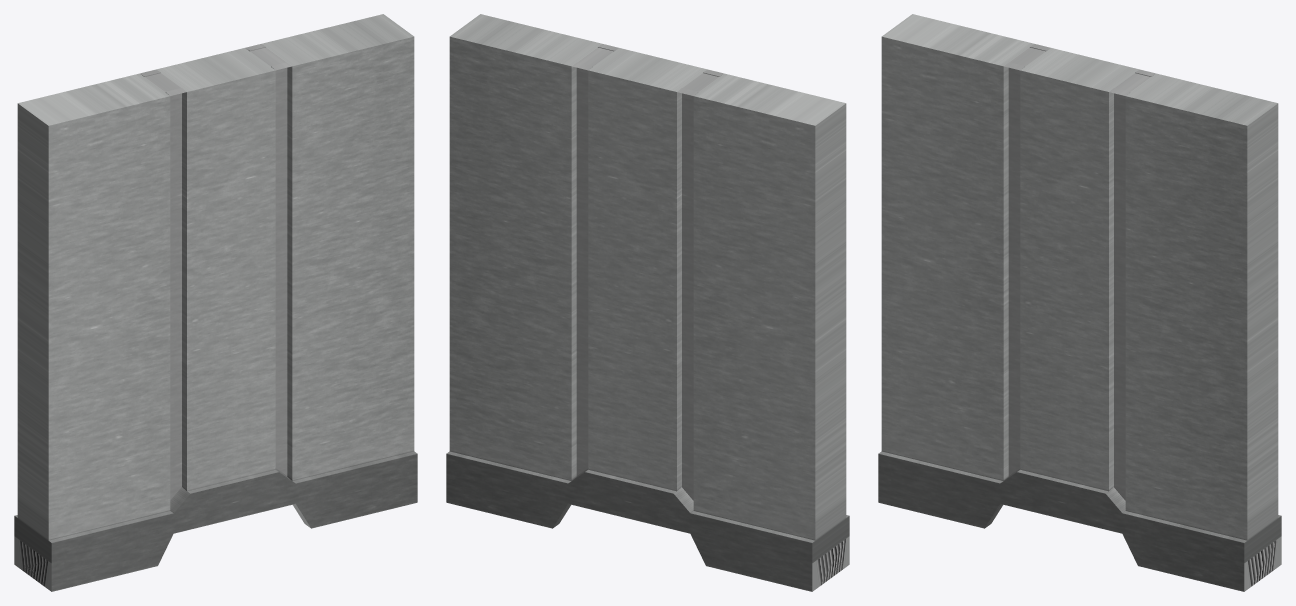
File: machine_door.glb
3 renders of one model, left to right at view 1: azimuth 30°, elevation 25°; view 2: azimuth 150°, elevation 25°; view 3: azimuth 330°, elevation 25°, orthographic.
Visible parts, largest first — view 1: machine_door; view 2: machine_door; view 3: machine_door.
Boxes of the visible parts, bbox=[...] form: machine_door: bbox=[14, 14, 417, 591]; machine_door: bbox=[446, 14, 849, 591]; machine_door: bbox=[878, 14, 1281, 591].
Size of the model in its own units: 3.17 by 3.84 by 0.5585.
Materials: 1 (1 with a texture image).
